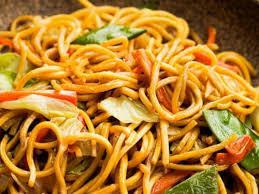pancit bihon: (0, 7, 259, 194)
